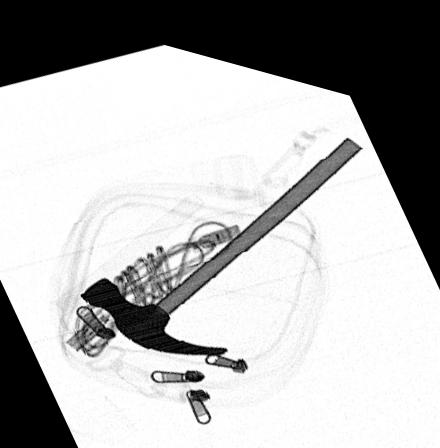Hammer: (81, 117, 365, 345)
